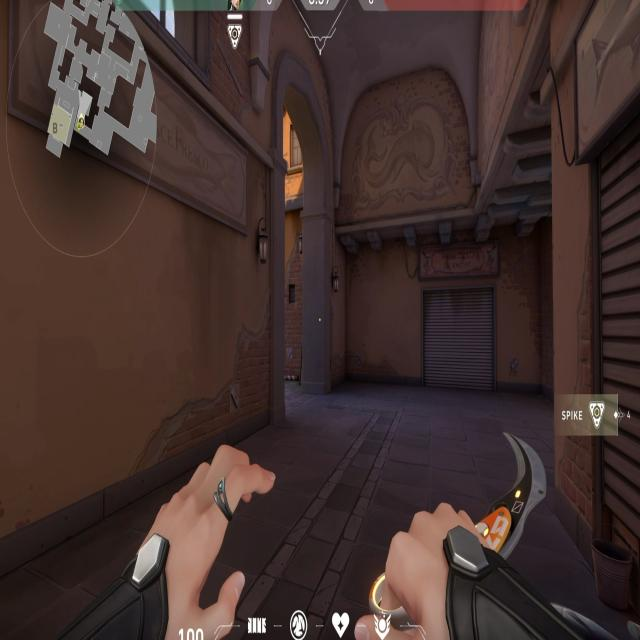B_Main_Corner: (551, 0, 640, 625)
